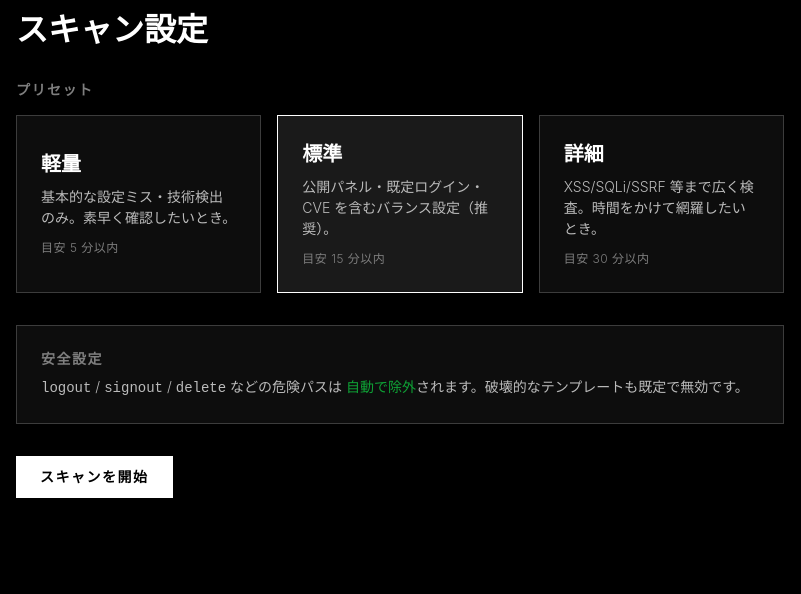
Test: pages/sites/[id]/scan › 202 に scan_id が無い場合は遷移せずエラーを表示する
Click the button with test id "start-scan". click: (94,477)
box: x1=16 y1=456 x2=172 y2=498
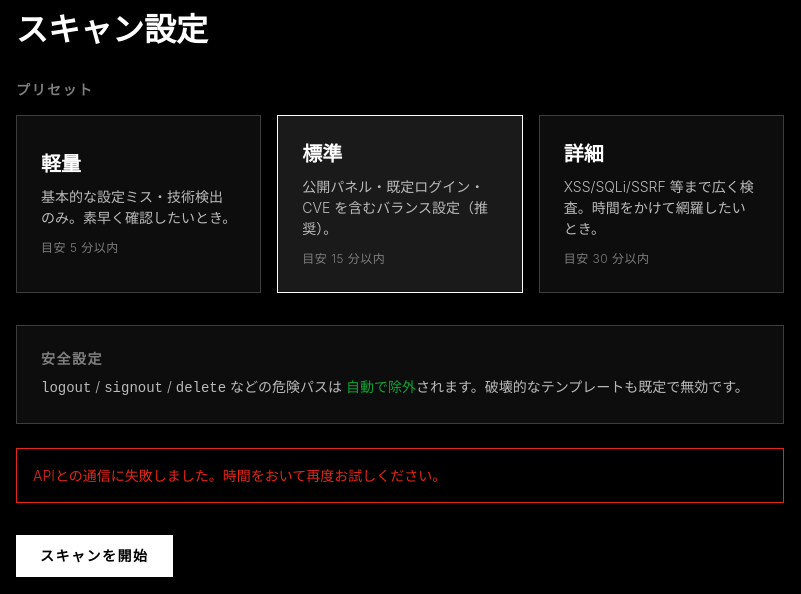
Now the text "APIとの通信に失敗しました" is shown, box x1=33 y1=467 x2=446 y2=484
